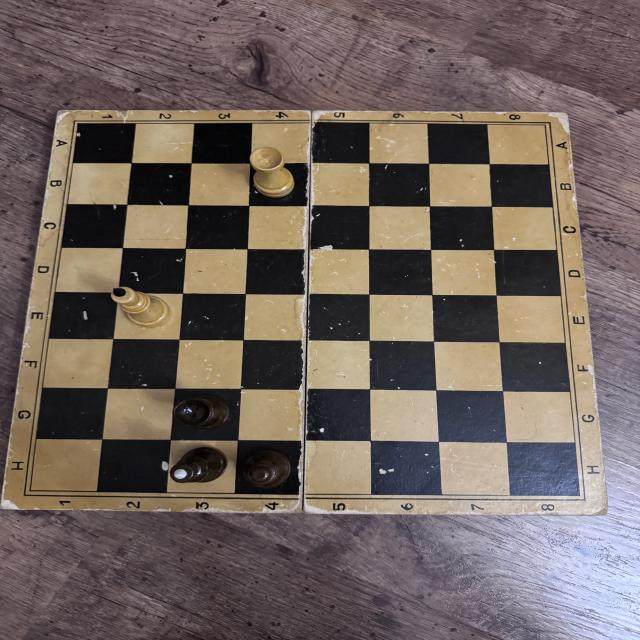black-king: (168, 446, 229, 484)
black-pawn: (242, 450, 292, 490)
black-rook: (174, 393, 232, 432)
white-king: (108, 285, 176, 328)
white-rook: (249, 145, 299, 200)
